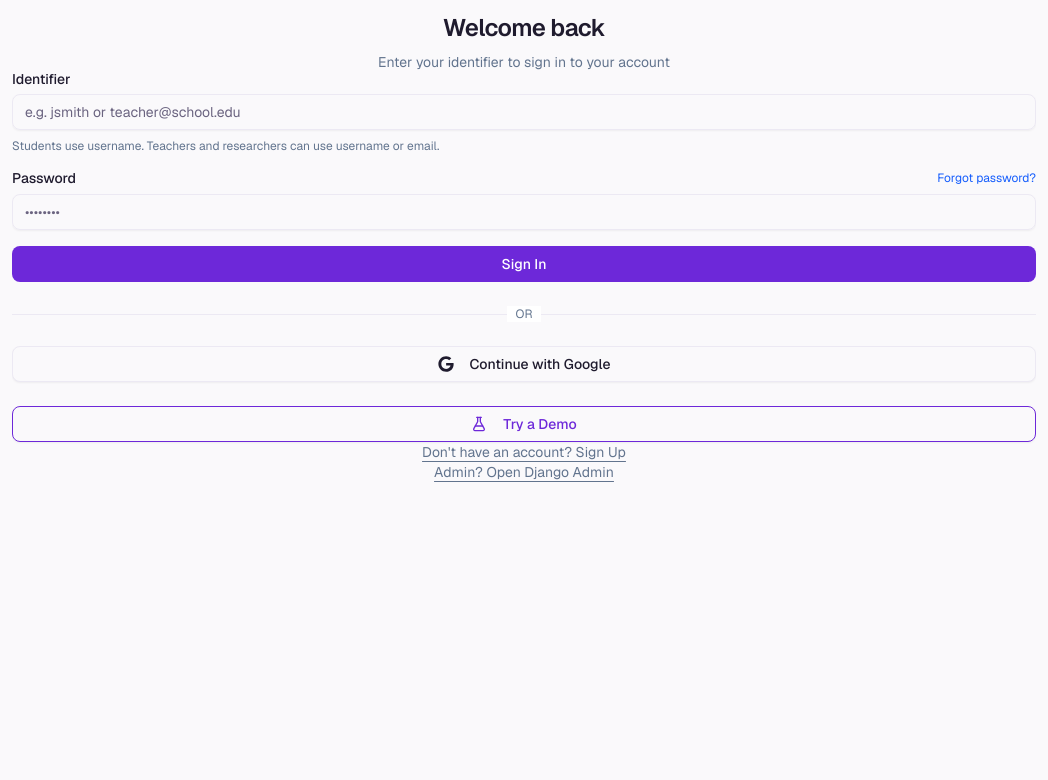
Test: Login page › shows backend detail for generic auth failures
The width and height of the screenshot is (1048, 780).
Type "mblake" into the field labelled "Identifier" at (524, 112), box x1=12 y1=94 x2=1036 y2=130
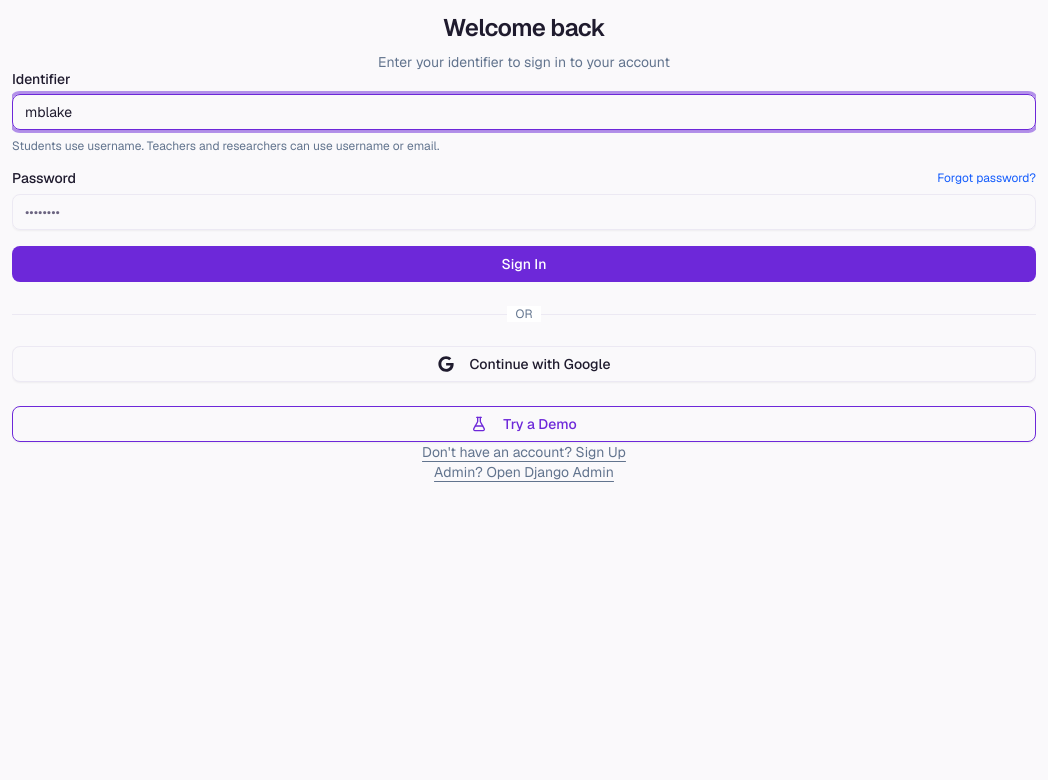
Type "wrong-pass" into the password field labelled "Password" at (524, 212), box x1=12 y1=194 x2=1036 y2=230
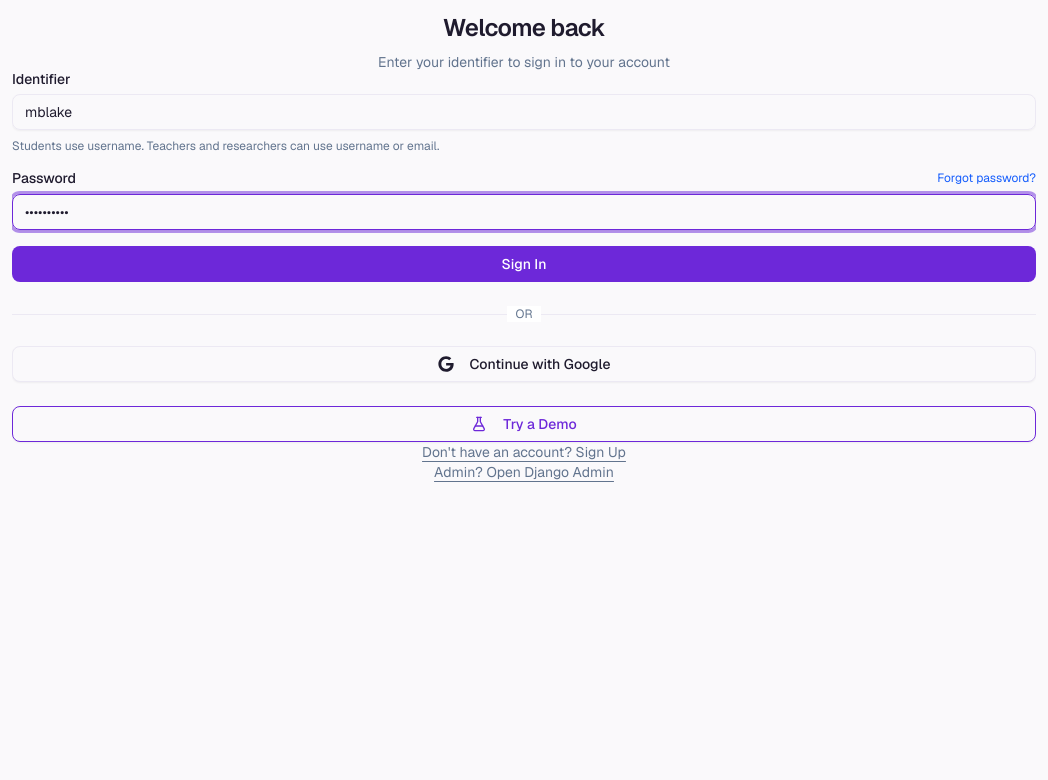
Click the button "Sign In" at (524, 264), box x1=12 y1=246 x2=1036 y2=282
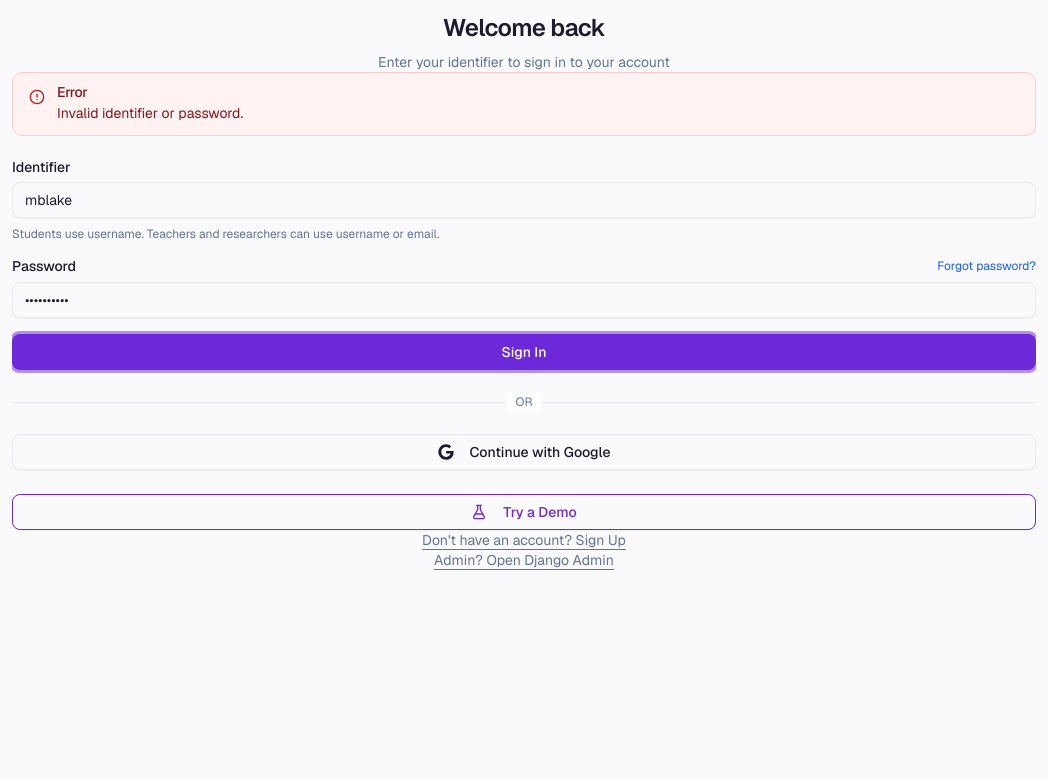
expect the text "Invalid identifier or password." is shown: met, box x1=57 y1=104 x2=243 y2=122
